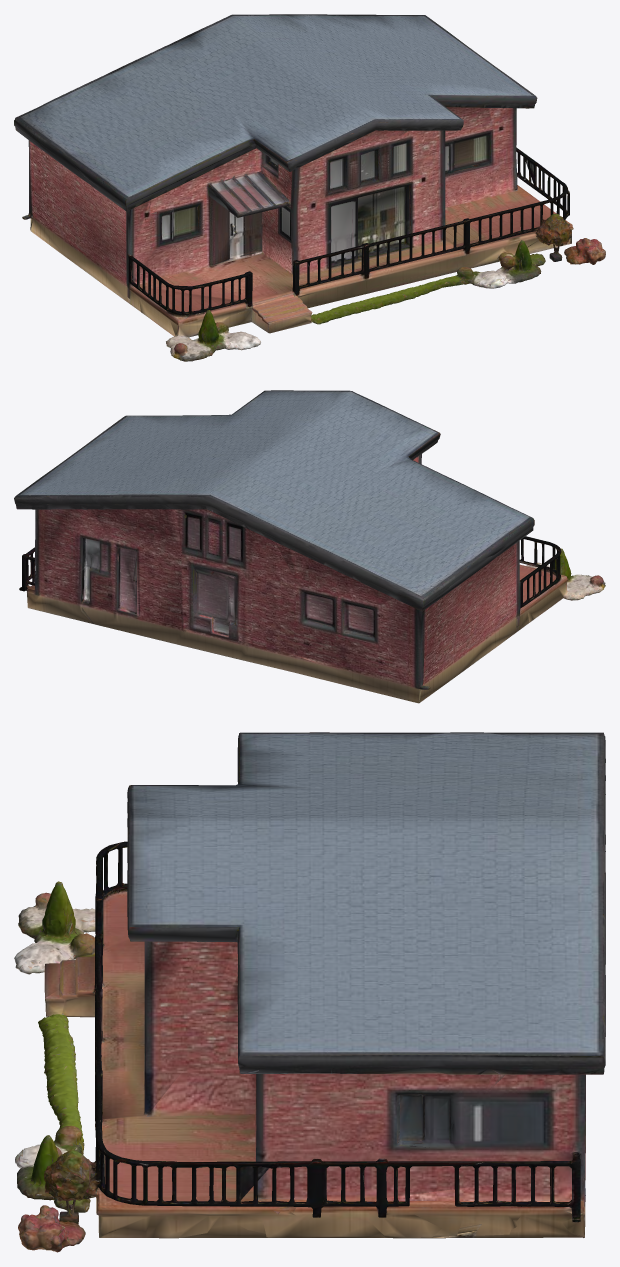
Rendered from stay20r.glb.
The picture shows the model from 3 angles, top to bottom: view 1: azimuth 30°, elevation 25°; view 2: azimuth 150°, elevation 25°; view 3: azimuth 270°, elevation 25°; orthographic projection. The views are drawn at different scales.
Visible parts, largest first — view 1: Mesh_0; view 2: Mesh_0; view 3: Mesh_0.
Part boxes in pixels (bbox=[...]): Mesh_0: bbox=[14, 14, 605, 361]; Mesh_0: bbox=[14, 390, 605, 703]; Mesh_0: bbox=[14, 732, 605, 1252].
Bounding box in the file's own units: 1.89 × 0.7027 × 1.37.
1 material, 1 textured.
